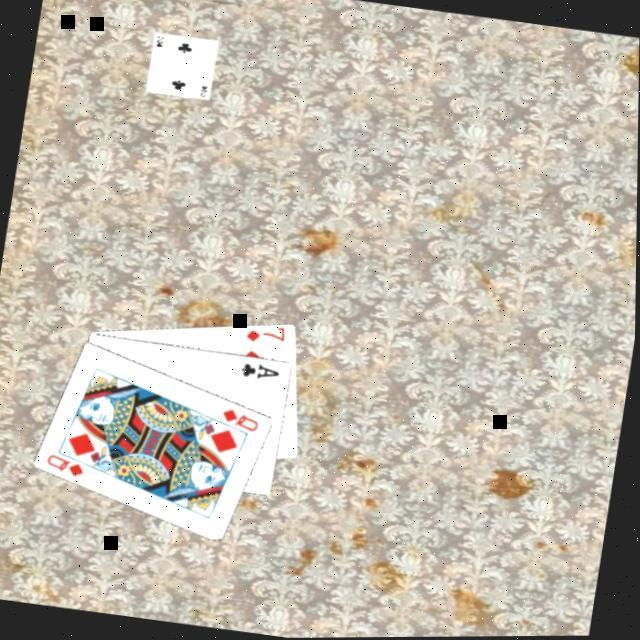7D: (241, 319, 288, 347)
AC: (237, 355, 283, 382)
QD: (41, 447, 89, 478), (217, 401, 262, 433)
